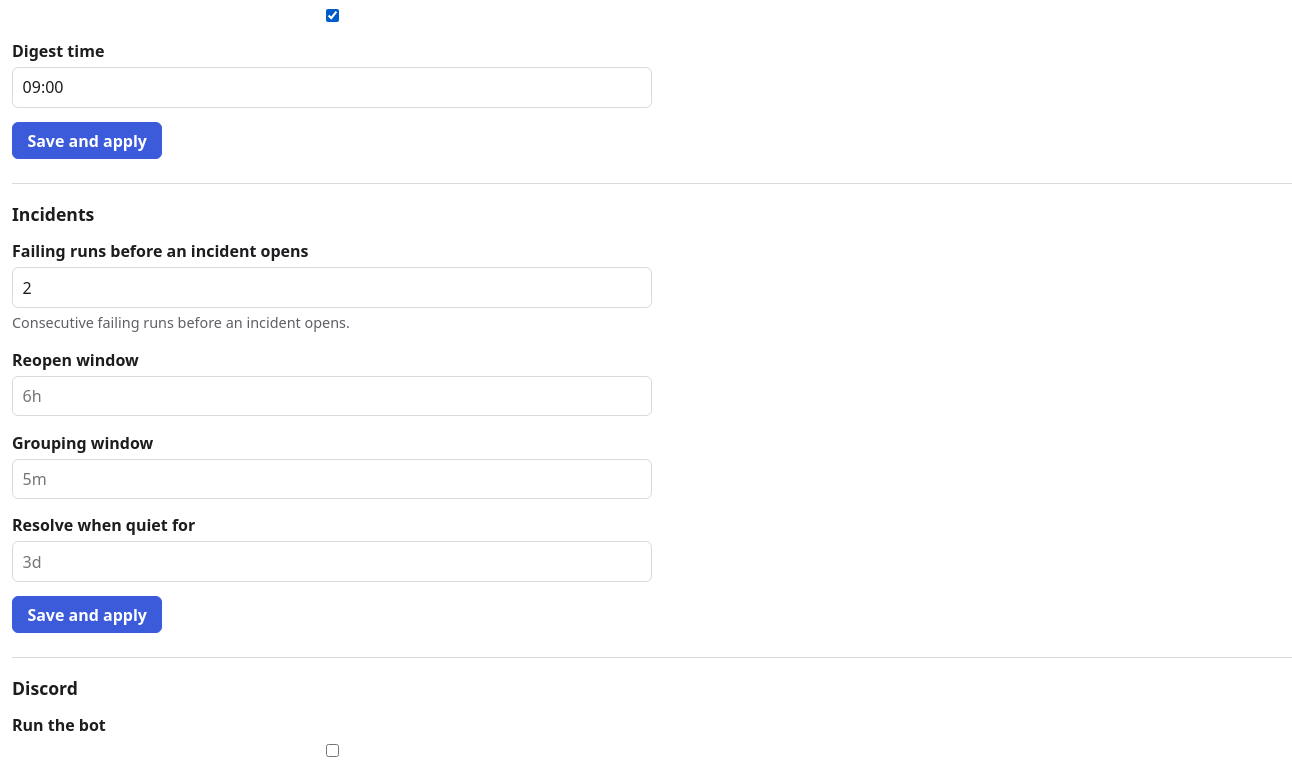
Test case: stale_revision_offers_a_reload
The image size is (1292, 776).
(page scrolled)
Type "2h" into the field labelled "Reopen window" at (332,396), box [12,376,652,416]
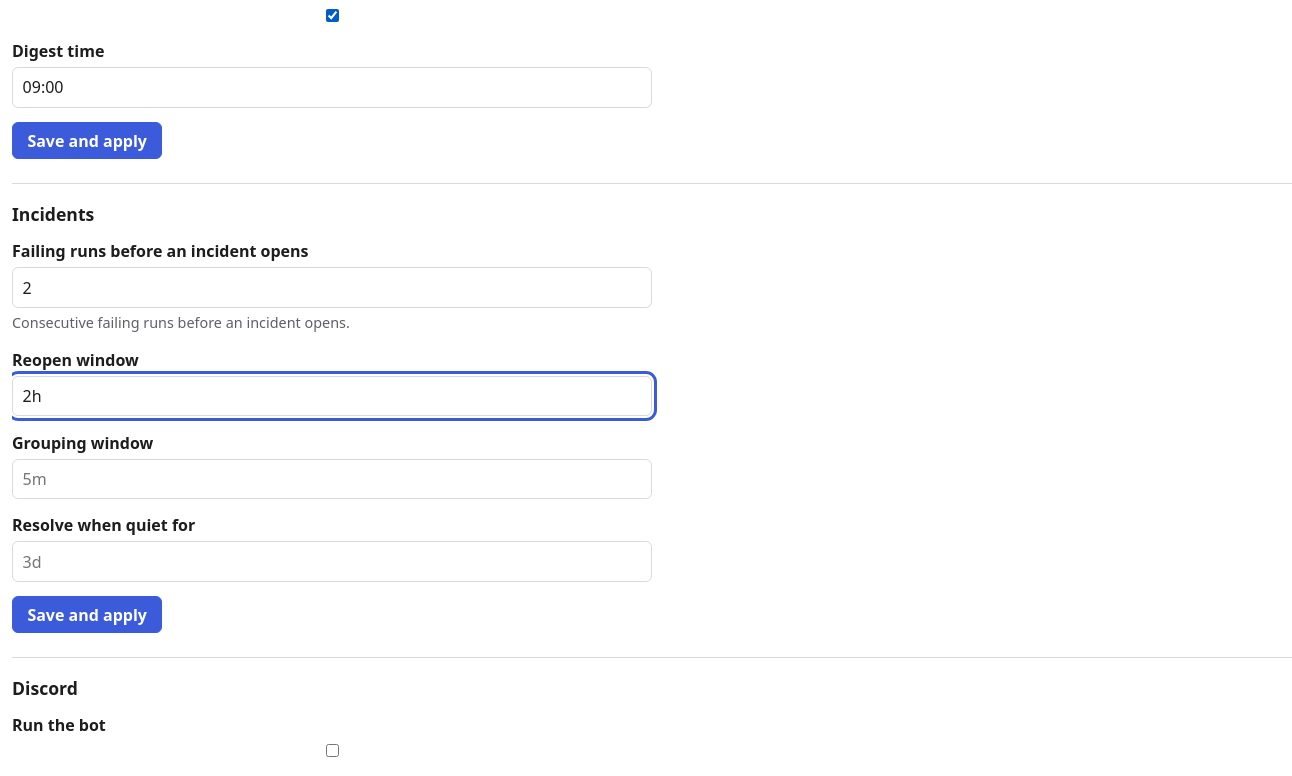
Click the button "Save and apply" below "Resolve when quiet for" at (87,615), box [12,596,162,633]
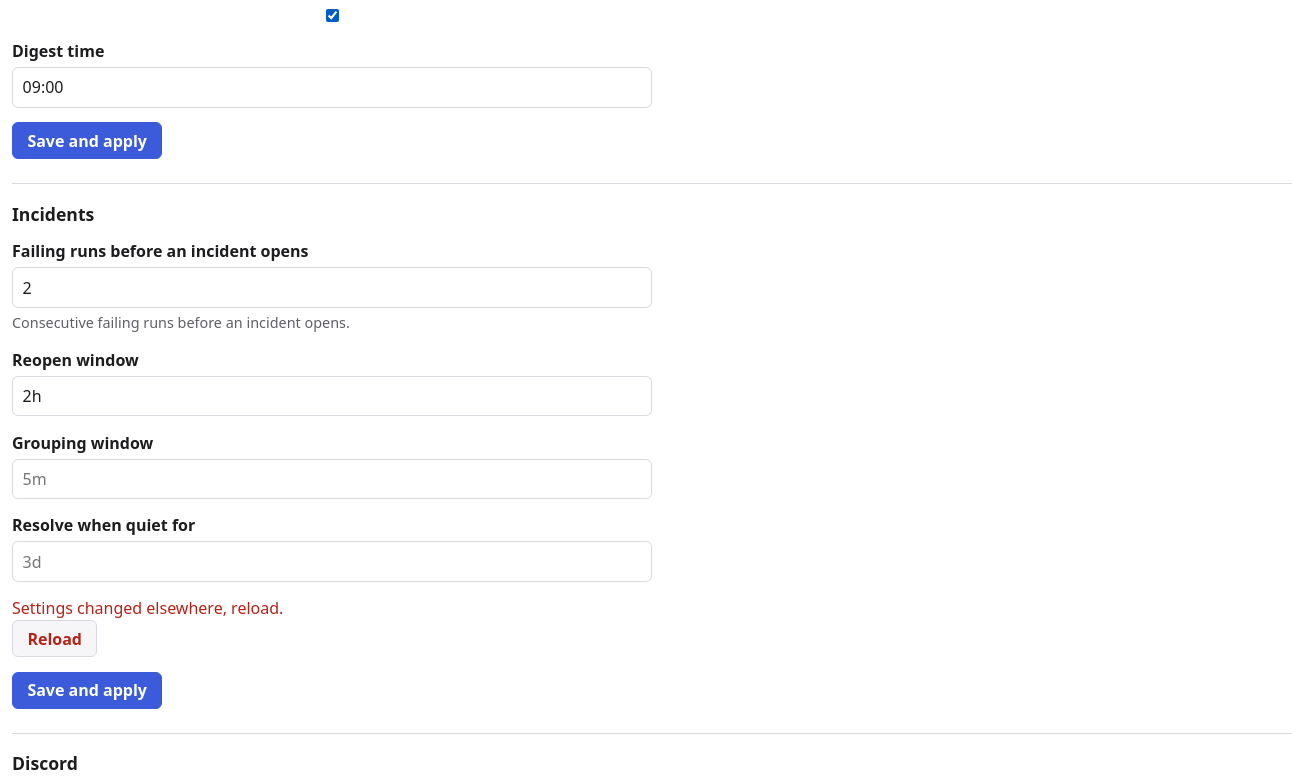
Now the text "Settings changed elsewhere, reload." is shown, box [12,597,283,619]
Now the button "Reload" is shown, box [12,620,97,657]
